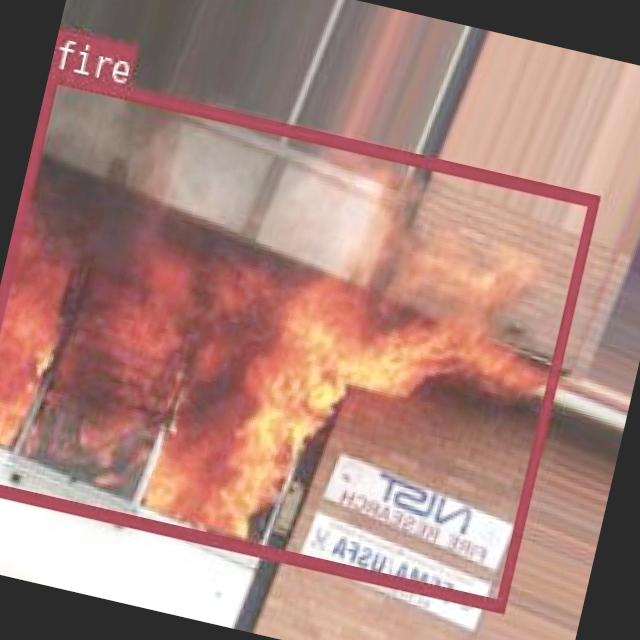fire: (0, 66, 597, 608)
